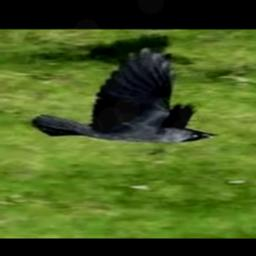Crow: (30, 46, 217, 144)
